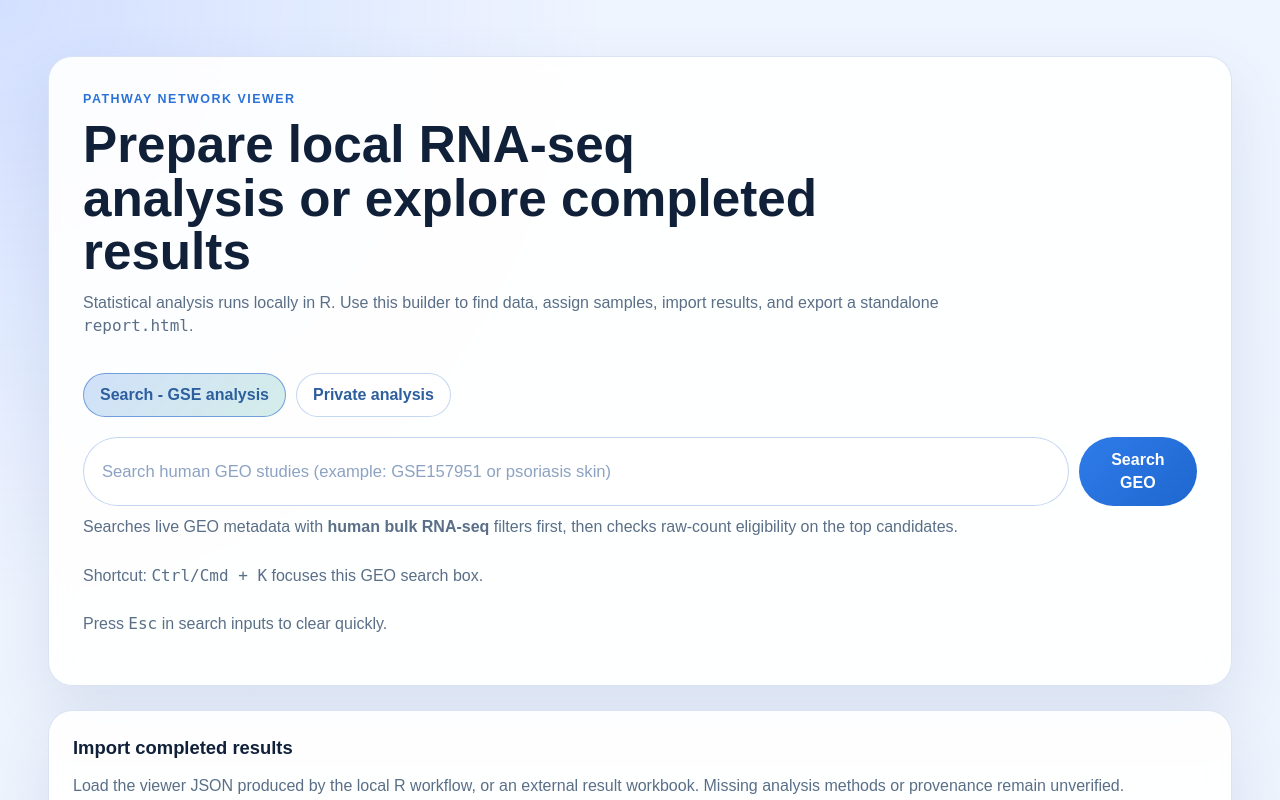
Test: App GEO search interactions › shows validation error for empty GEO search input
The image size is (1280, 800).
Click the button "Search GEO": (1138, 472) [1079,437,1197,506]
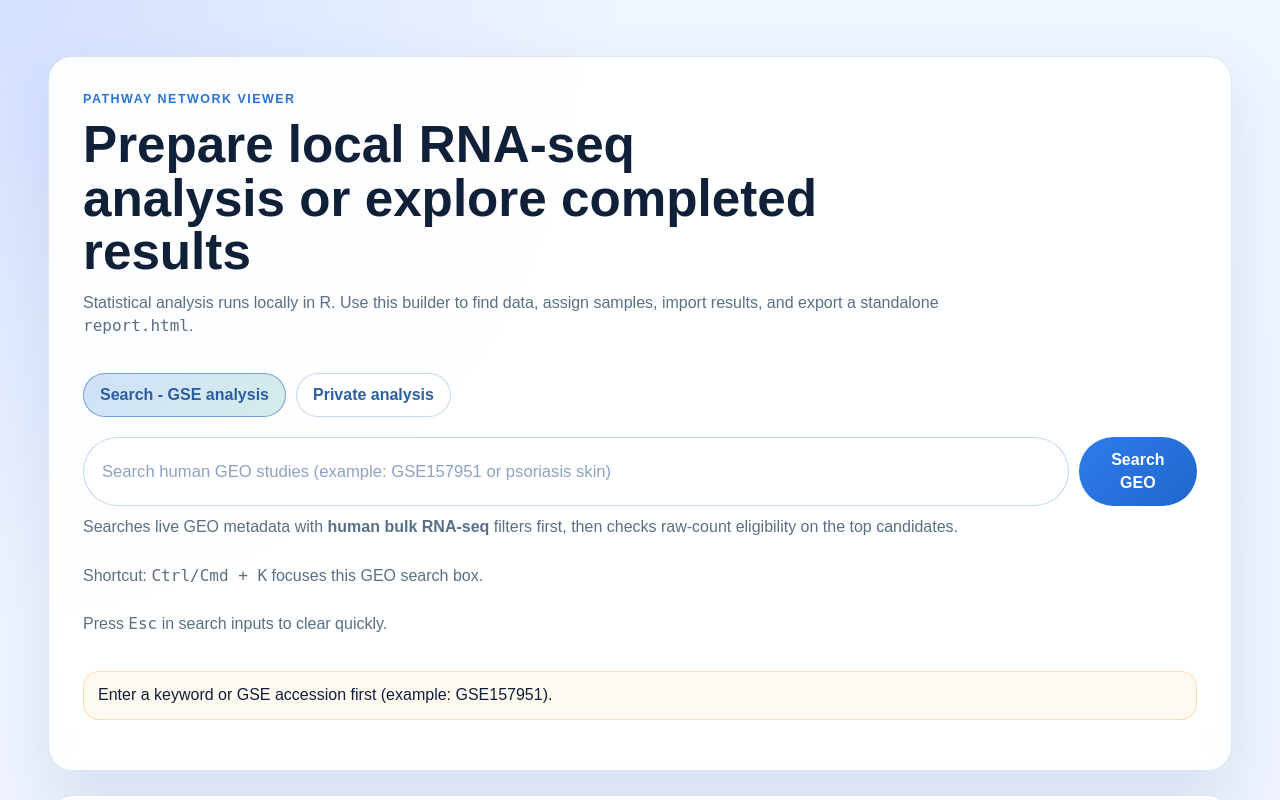
Expected: the text "Enter a keyword or GSE accession first (example: GSE157951)." is shown, [83,671,1197,720]
